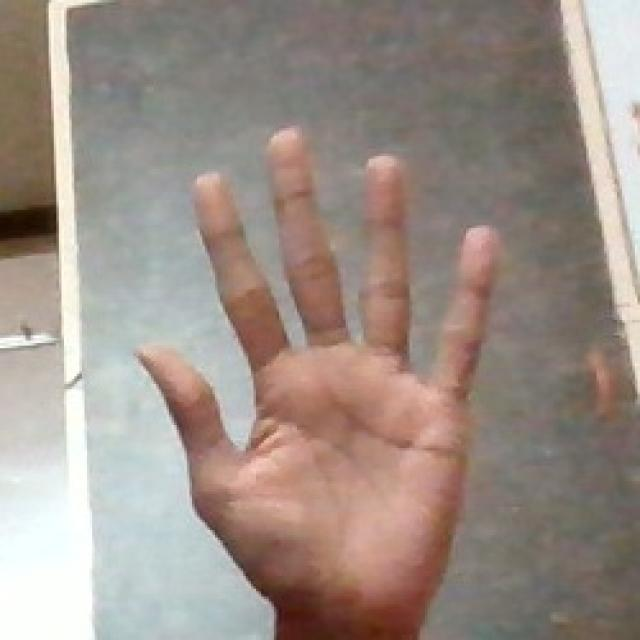Numeric-5: (132, 121, 506, 625)
